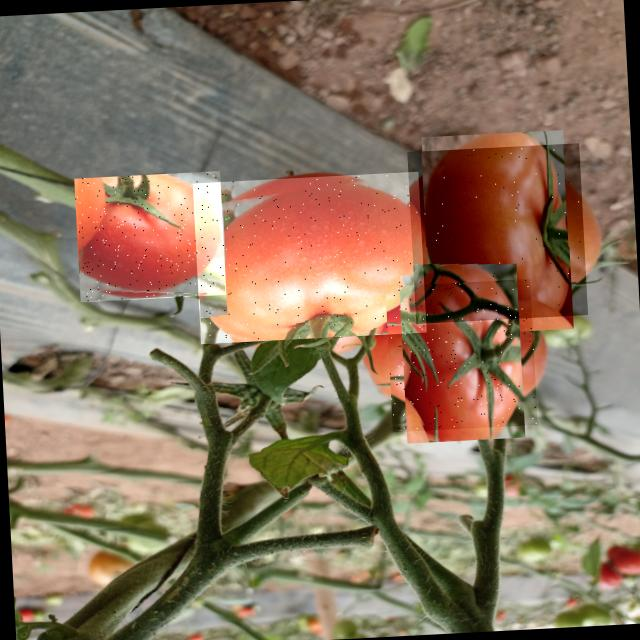Ripe Tomato: (192, 172, 426, 344), (407, 143, 588, 324), (386, 279, 538, 432), (75, 172, 226, 302)
